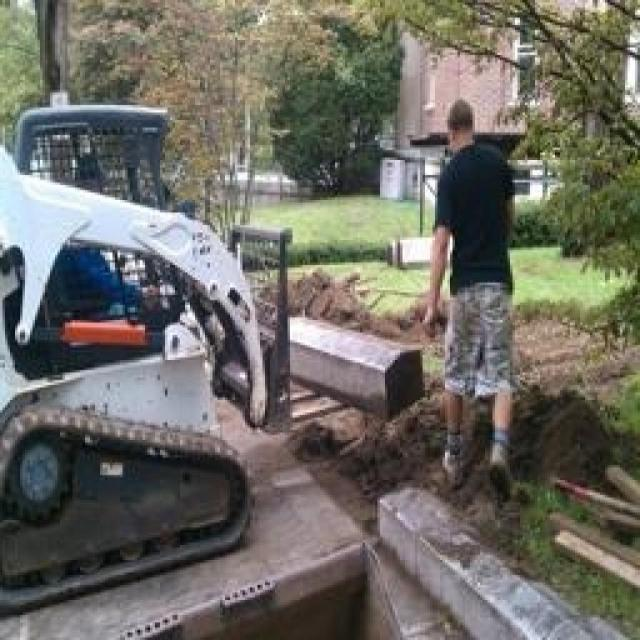Helmet: (410, 150, 546, 305), (424, 80, 498, 164)
